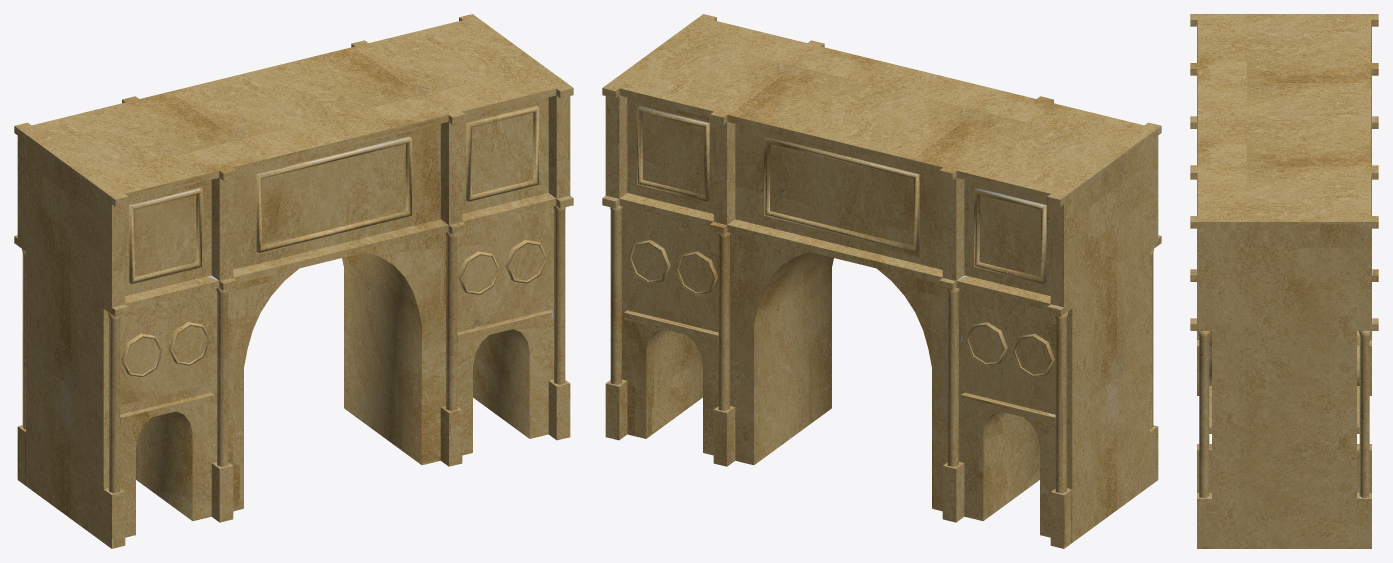
File: roman_arch.glb
3 renders of one model, left to right at view 1: azimuth 30°, elevation 25°; view 2: azimuth 150°, elevation 25°; view 3: azimuth 270°, elevation 25°, orthographic. The views are drawn at different scales.
Parts seen in each view (by area): view 1: arch_0; view 2: arch_0; view 3: arch_0.
Part boxes in pixels (box(x1,y1,x2,y2)): arch_0: box(14, 14, 573, 548); arch_0: box(602, 14, 1161, 548); arch_0: box(1190, 14, 1378, 548).
Size of the model in its own units: 0.7341 by 0.5381 by 0.2807.
Materials: 1 (1 with a texture image).
